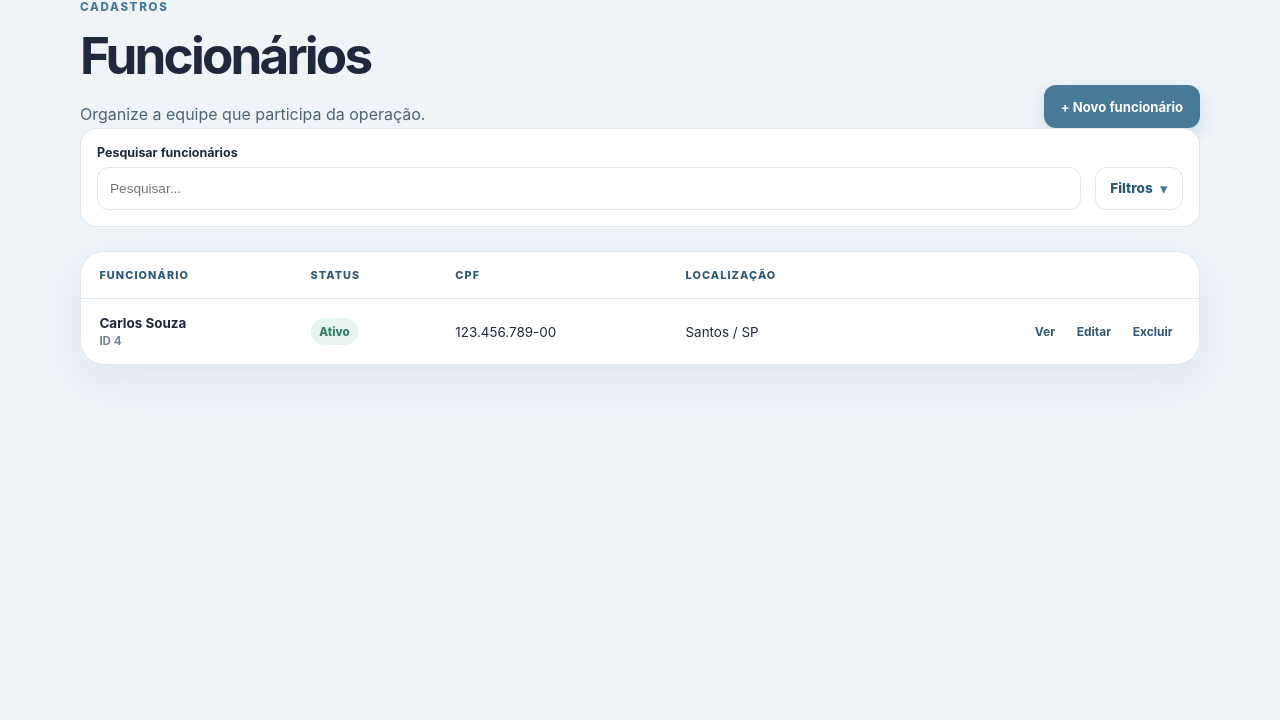
edição dos cadastros › permite desativar funcionário e mostra o novo status
Expected: the text "Carlos Souza" is shown, [99, 315, 186, 331]
Expected: the text "Ativo" is shown, [311, 318, 358, 345]
Click the button "Editar" at [1094, 332], box [1069, 318, 1119, 345]
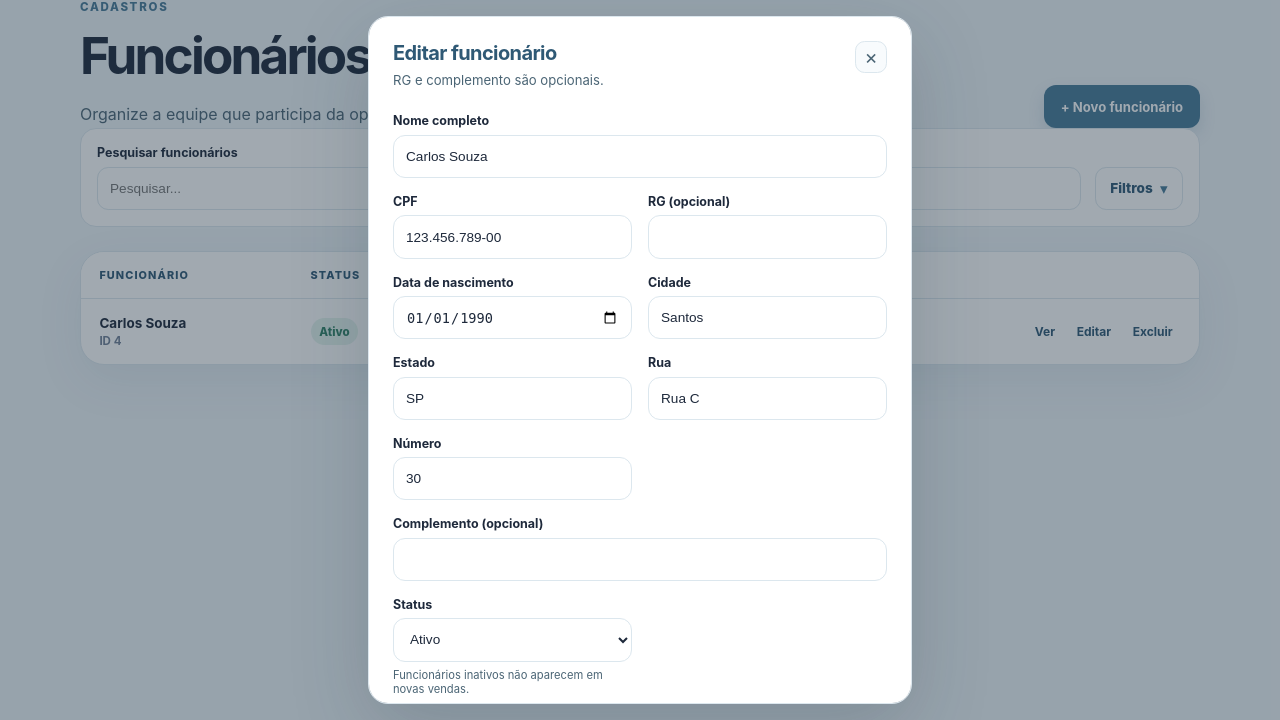
Select "Inativo" in the dropdown labelled "Status" at [512, 640], box [393, 618, 632, 662]
(page scrolled)
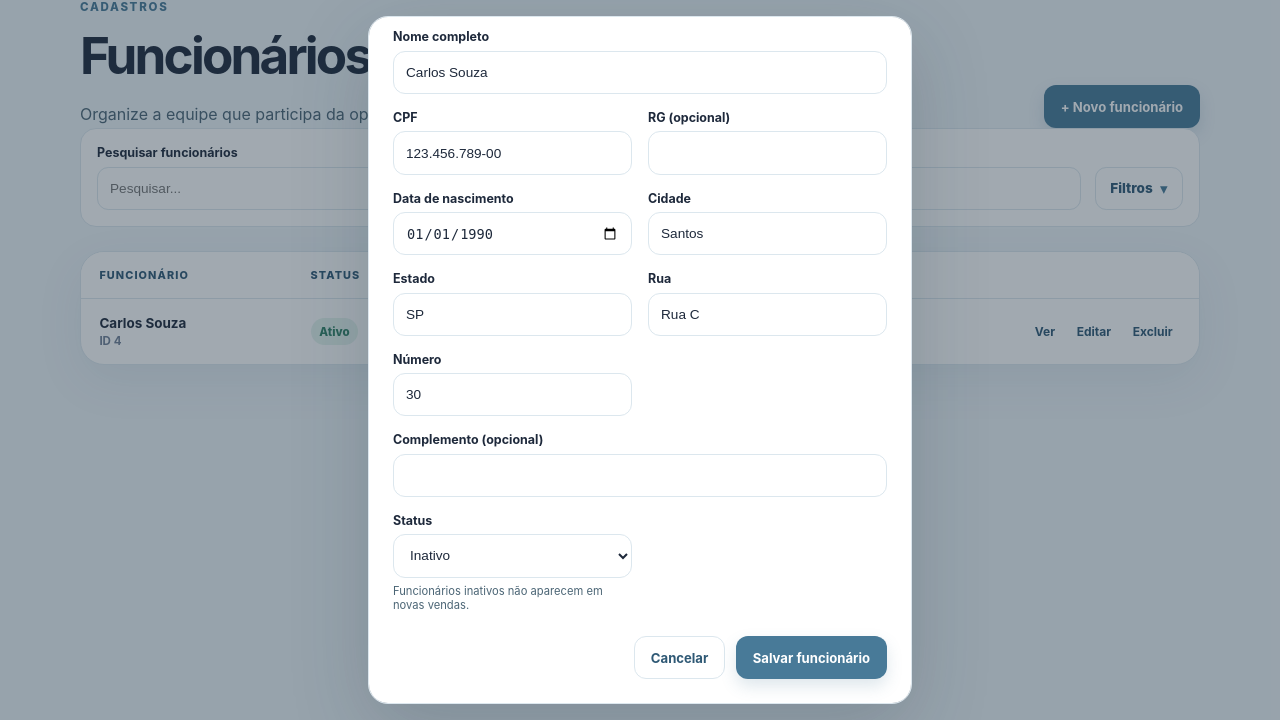
Click the button "Salvar funcionário" at [811, 658], box [736, 636, 887, 679]
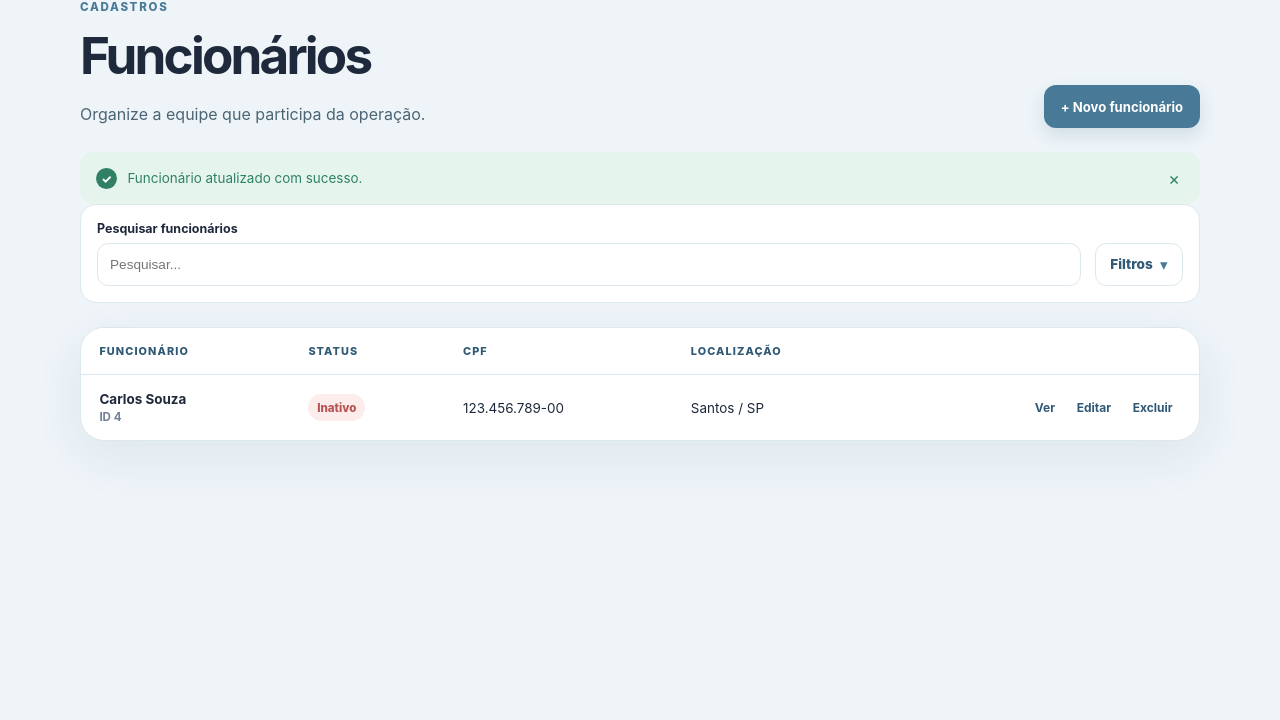
Now the text "Inativo" is shown, box [308, 394, 365, 421]
Now the text "Funcionário atualizado com sucesso." is shown, box [127, 170, 362, 186]
